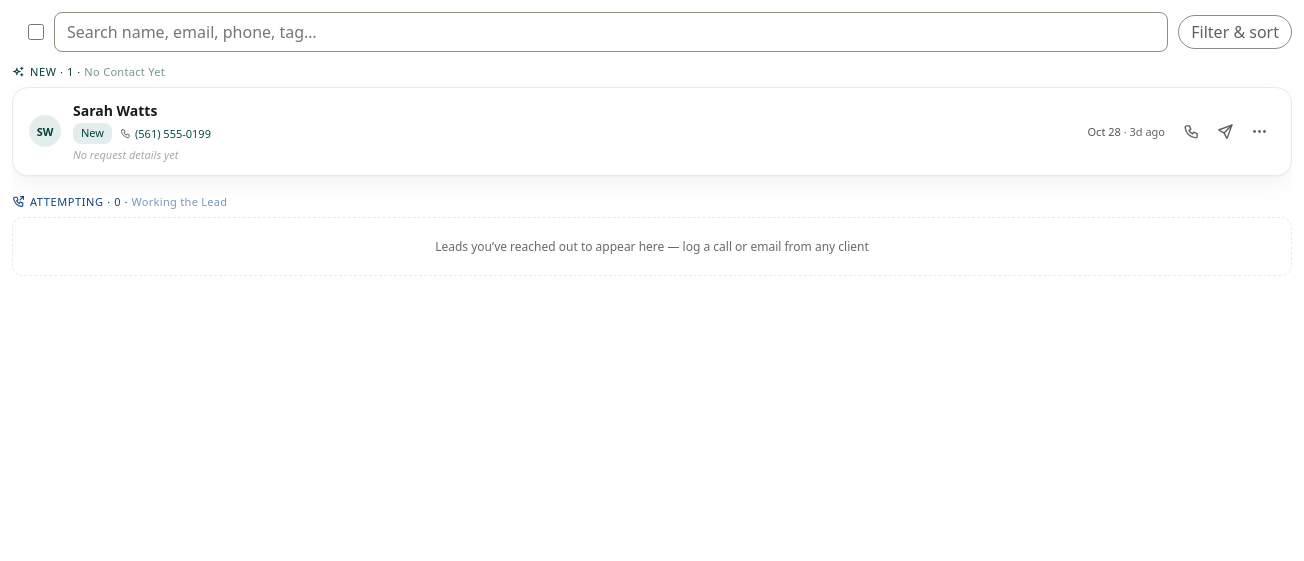
6 — "Mark as Junk" carries its capital › and its own confirmation agrees with it
Click the button named "More": [1259, 131] box [1243, 115, 1275, 147]
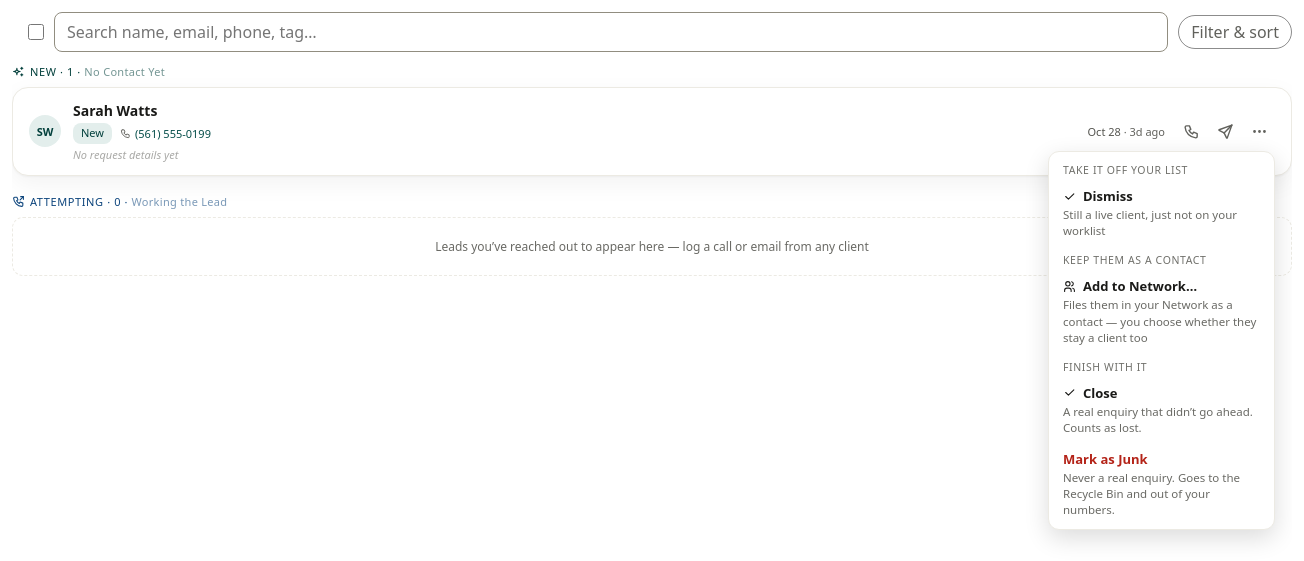
Click the button that starts with "Mark as Junk": [1162, 484] box [1053, 443, 1270, 525]
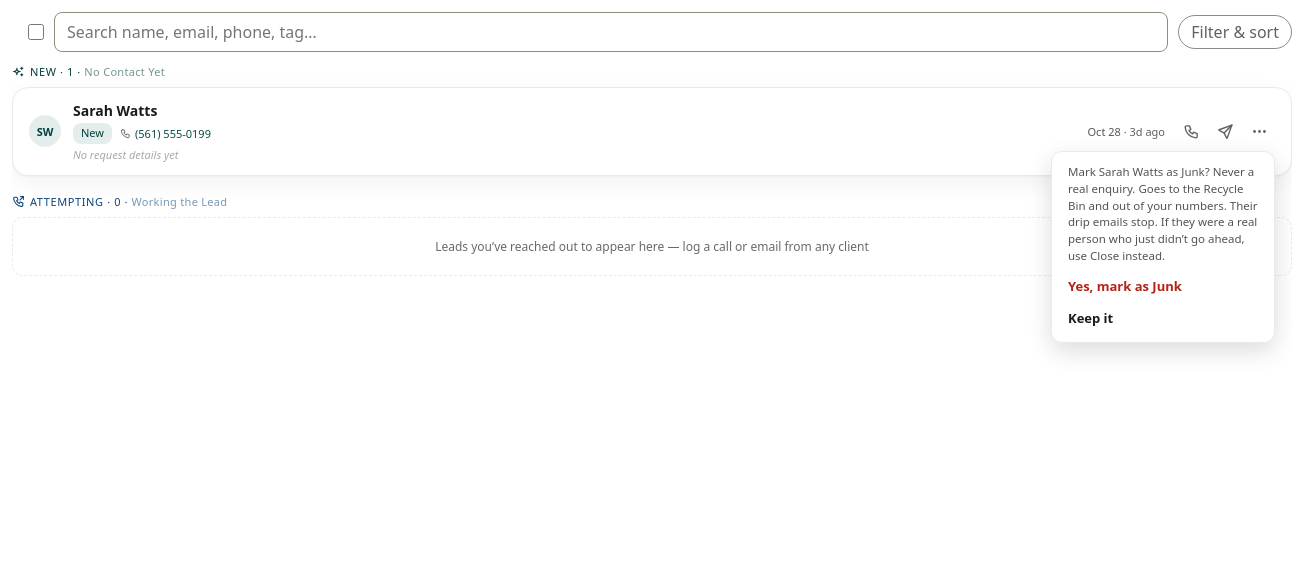
expect the text "as junk?" is not shown: met
expect the text "as Junk?" is shown: met, box [1068, 164, 1258, 263]
expect the text "Yes, mark as Junk" is shown: met, box [1068, 277, 1182, 295]
